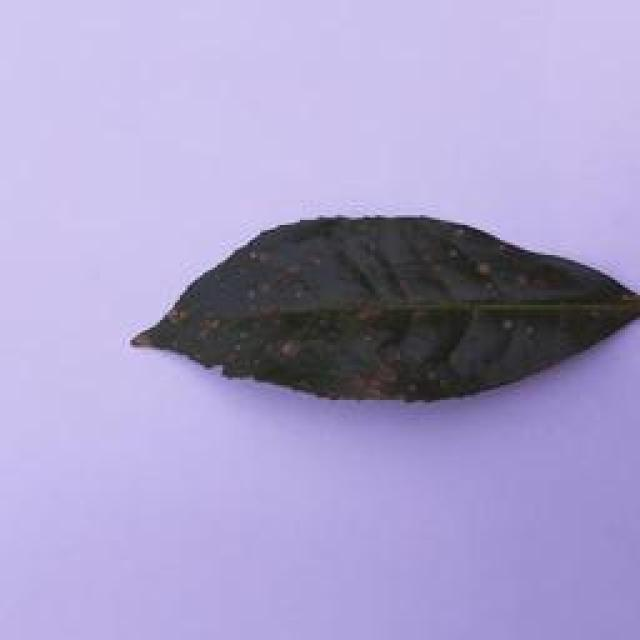Algal Leaf Spot: (131, 203, 640, 424)
